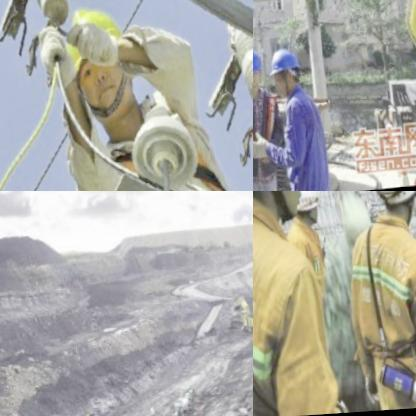helmet: (54, 4, 135, 117), (263, 50, 301, 101), (370, 191, 416, 218), (292, 191, 318, 227), (253, 48, 262, 94)
